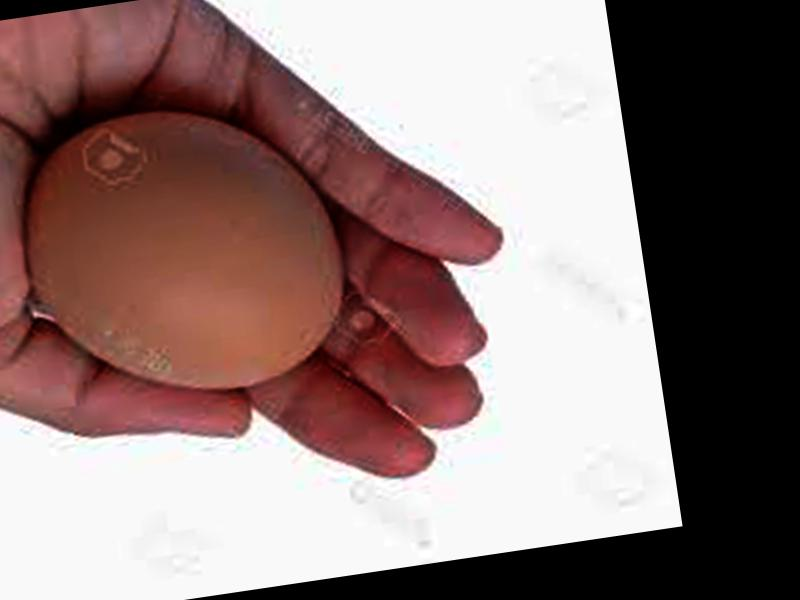Eggs: (7, 89, 359, 415)
